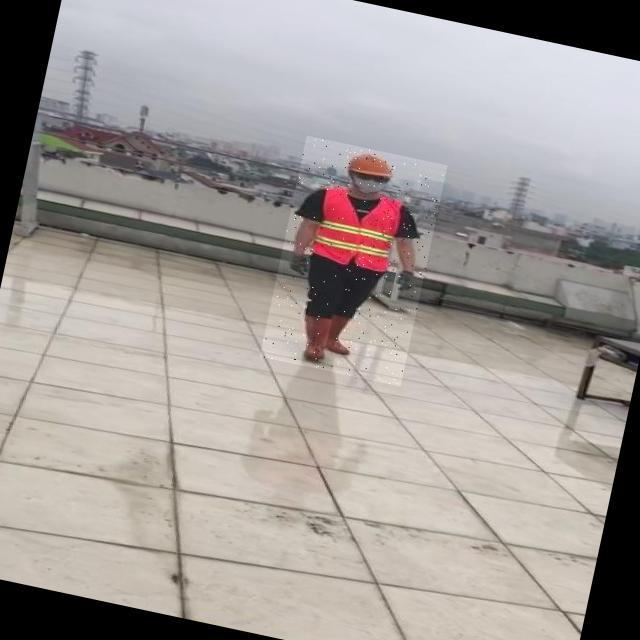Gloves: (390, 268, 419, 295), (289, 251, 313, 276)
Helmet: (342, 150, 400, 183)
Human: (259, 136, 447, 387)
Safety Boot: (291, 310, 338, 365), (326, 318, 358, 355)
Safety Vest: (310, 184, 402, 273)
